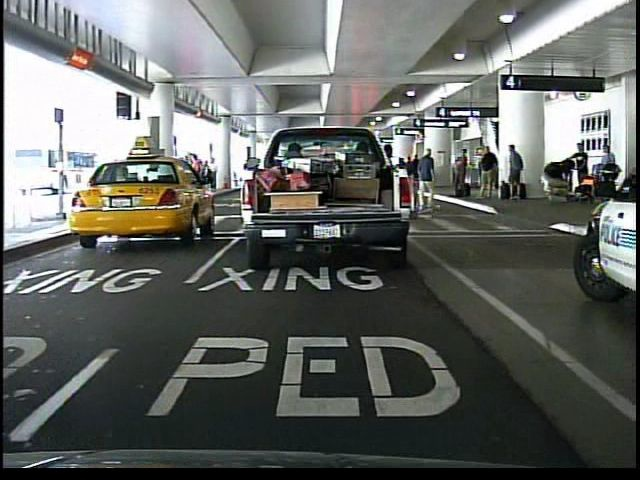person: (374, 137, 413, 229), (593, 141, 619, 202), (570, 140, 595, 200), (415, 147, 438, 212)
